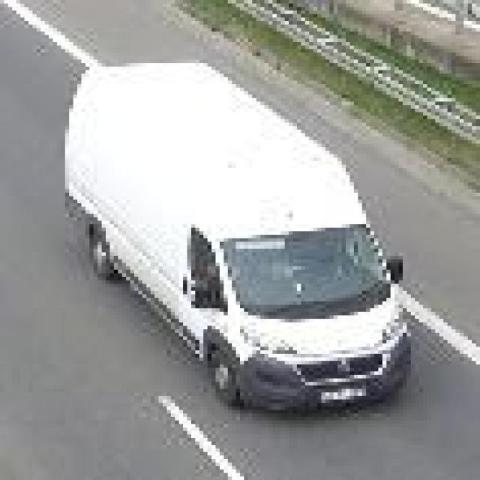van: (63, 63, 413, 413)
